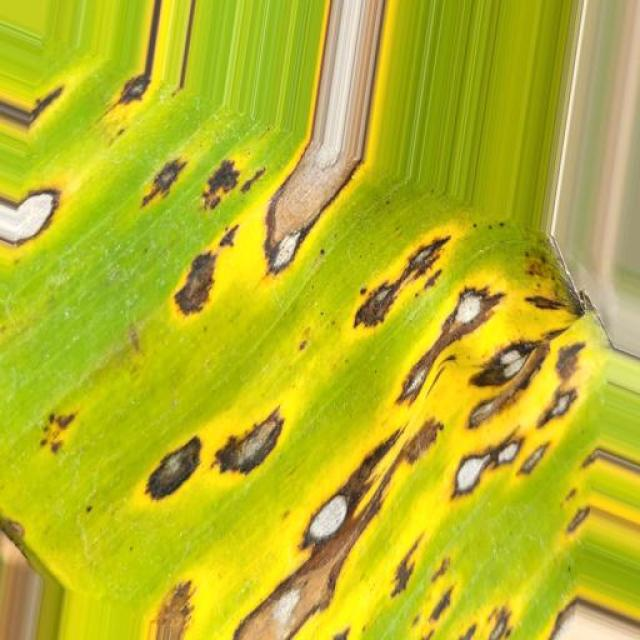Early_rust: (1, 71, 640, 640)
